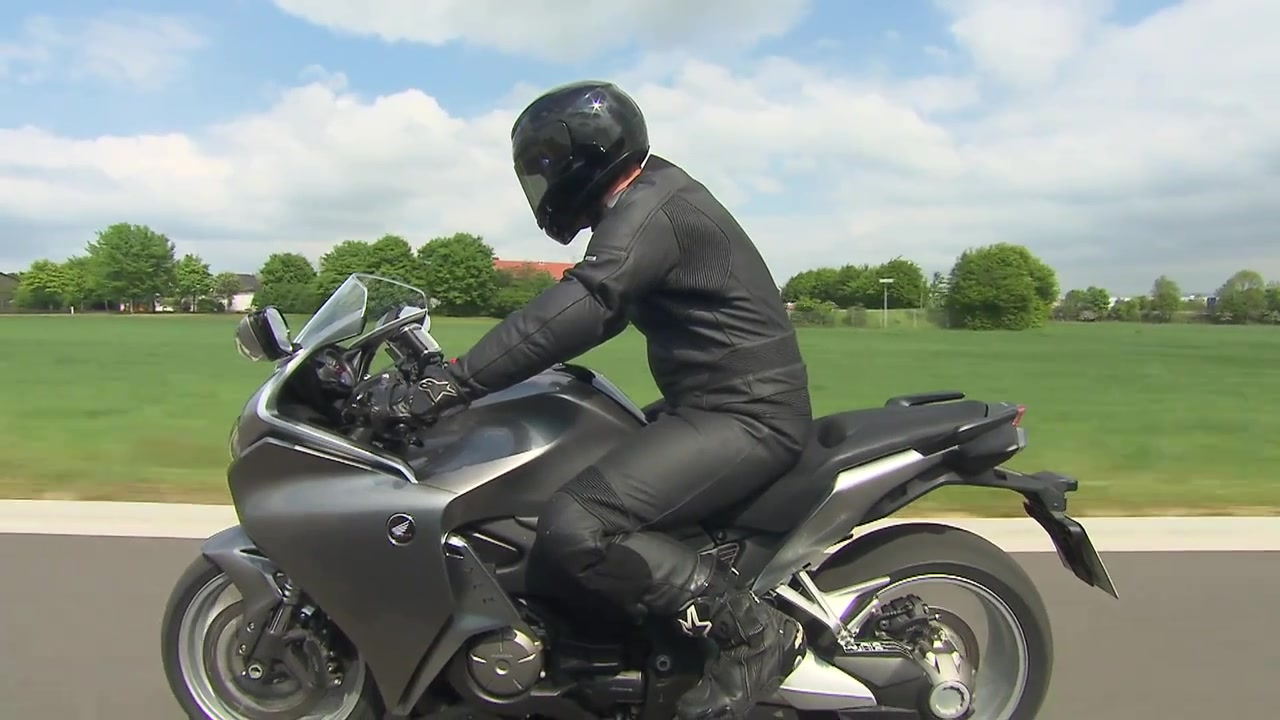motorbike: (160, 272, 1124, 720)
